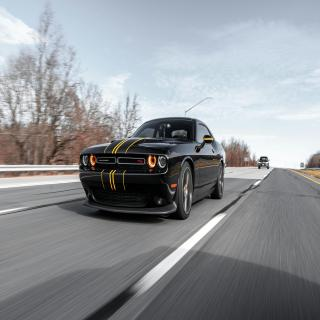Normal_vehicle: (77, 115, 226, 222), (258, 154, 271, 172)
